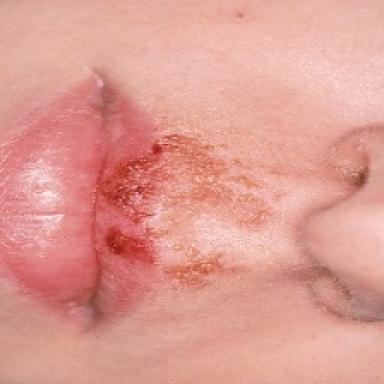Impetigo: (96, 130, 274, 296)
